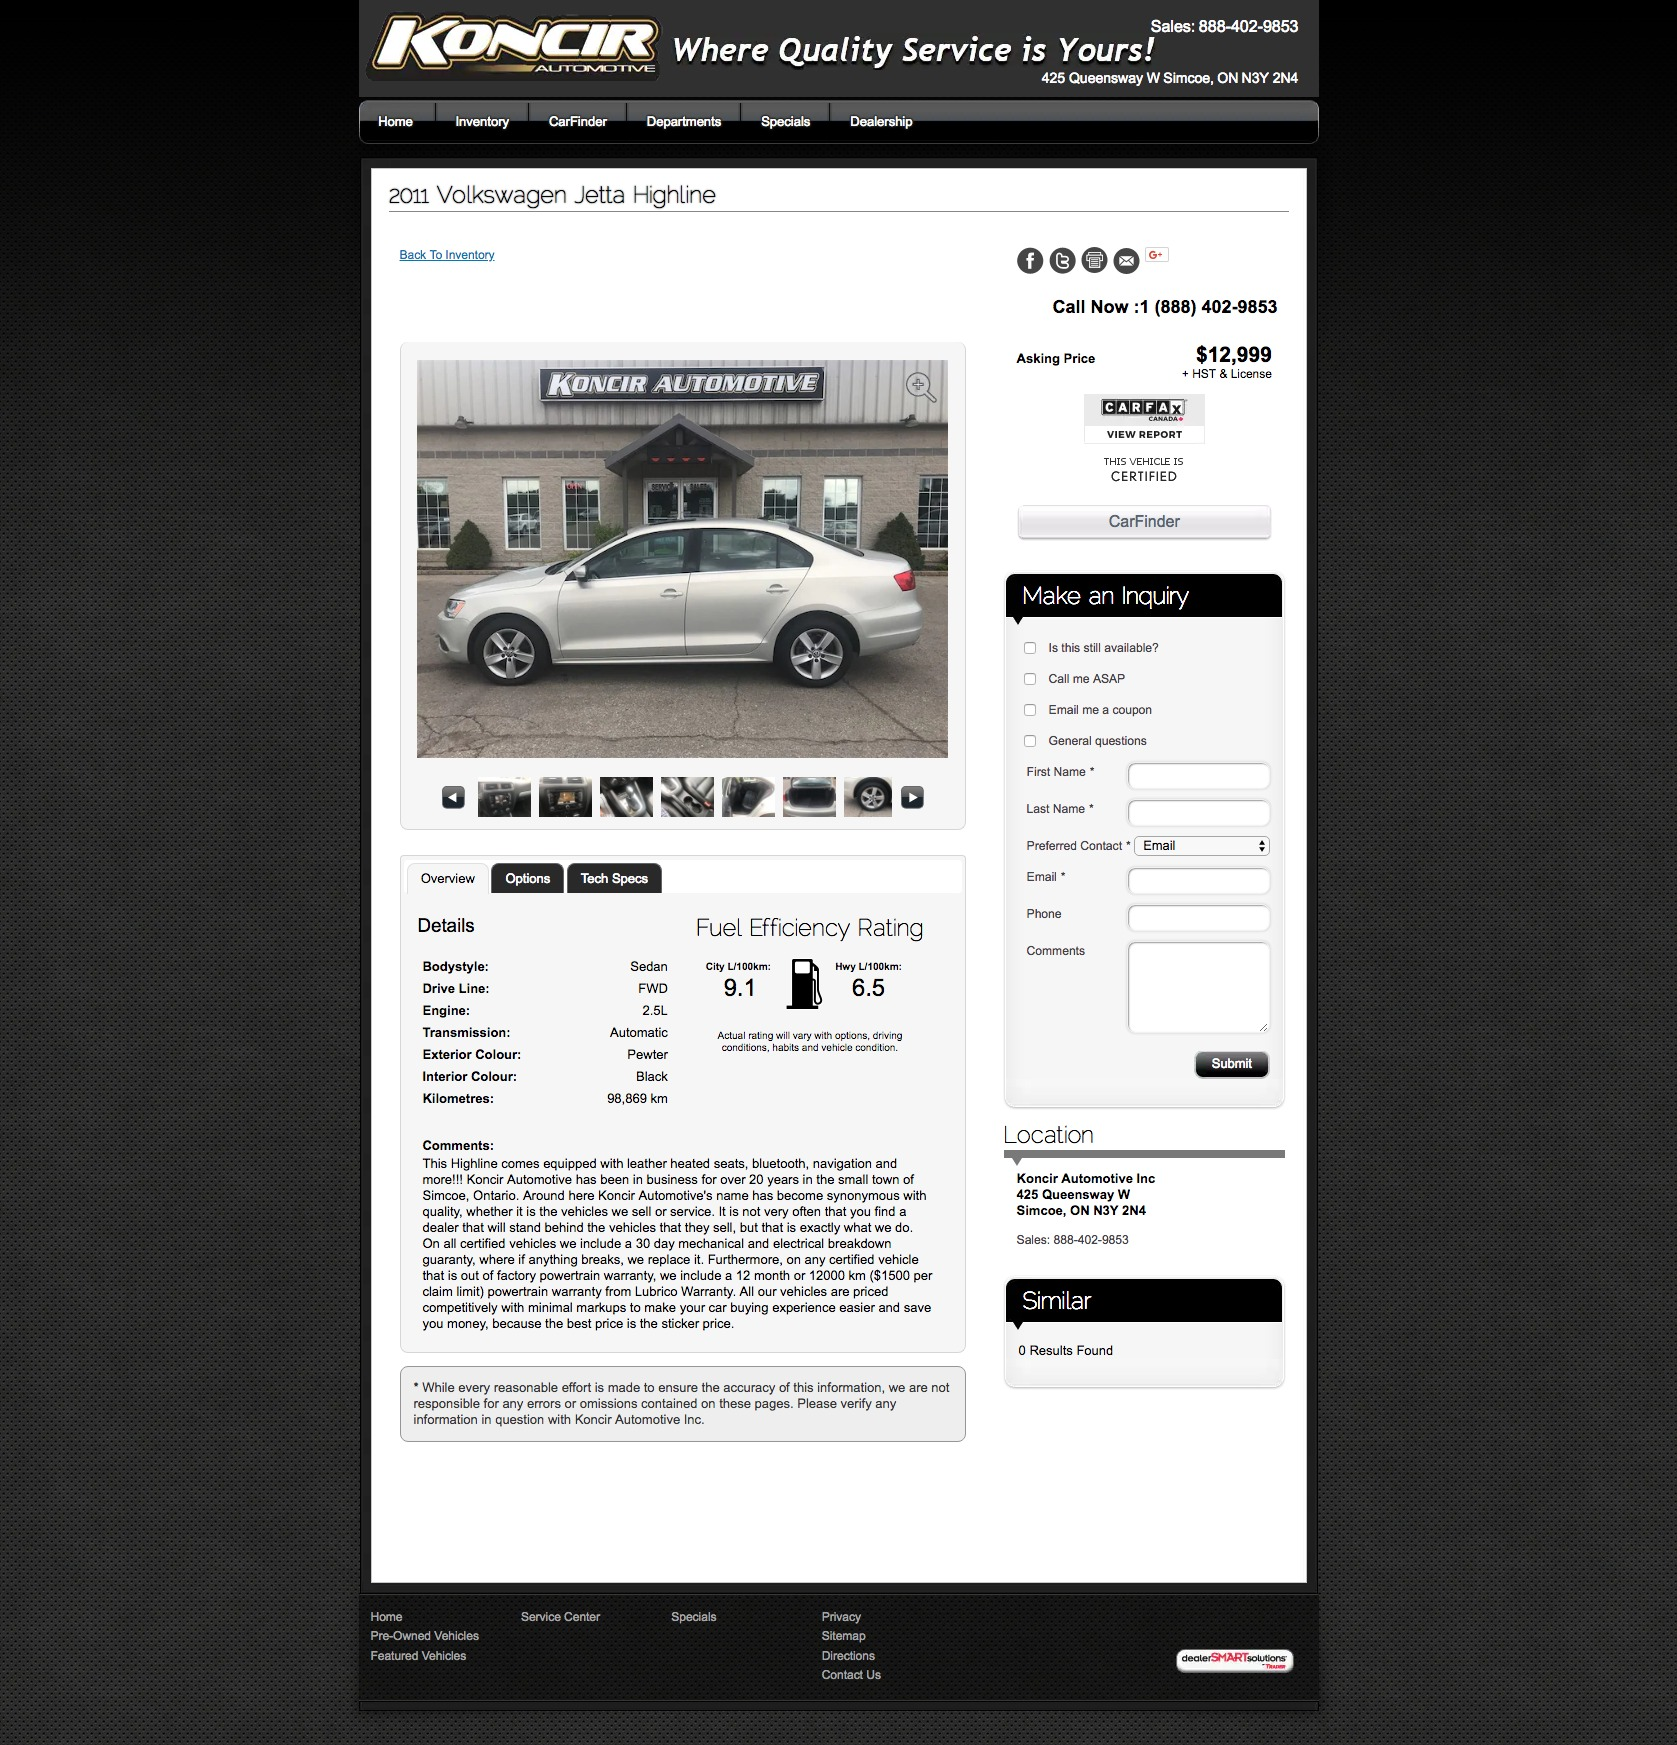car: (909, 791, 918, 804)
